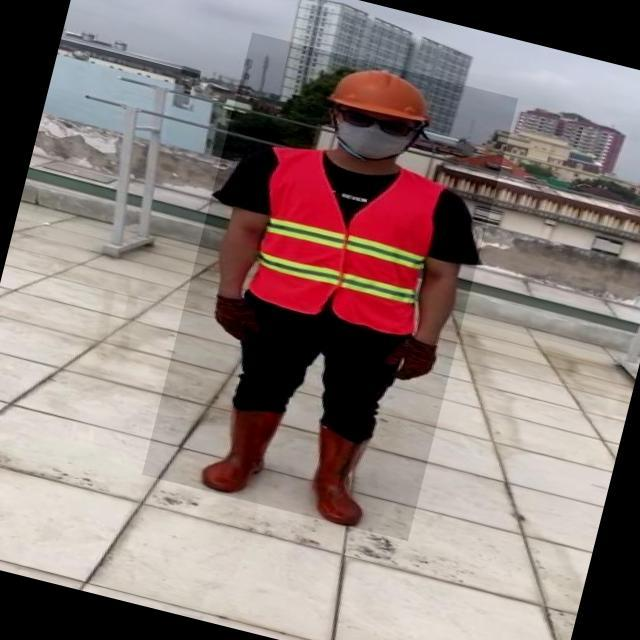Gloves: (206, 290, 271, 347), (381, 334, 440, 389)
Helmet: (321, 53, 443, 131)
Human: (142, 32, 518, 541)
Safety Boot: (298, 420, 385, 529), (199, 397, 288, 500)
Safety Vest: (236, 137, 449, 340)
